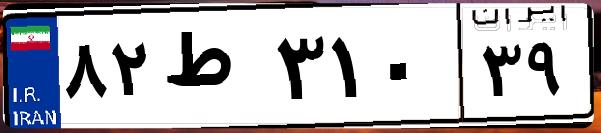0: (385, 28, 445, 110)
1: (330, 28, 385, 110)
2: (110, 28, 158, 98)
3: (270, 28, 330, 110), (475, 38, 525, 113)
8: (57, 26, 110, 100)
9: (525, 38, 570, 115)
ط: (158, 20, 270, 120)
